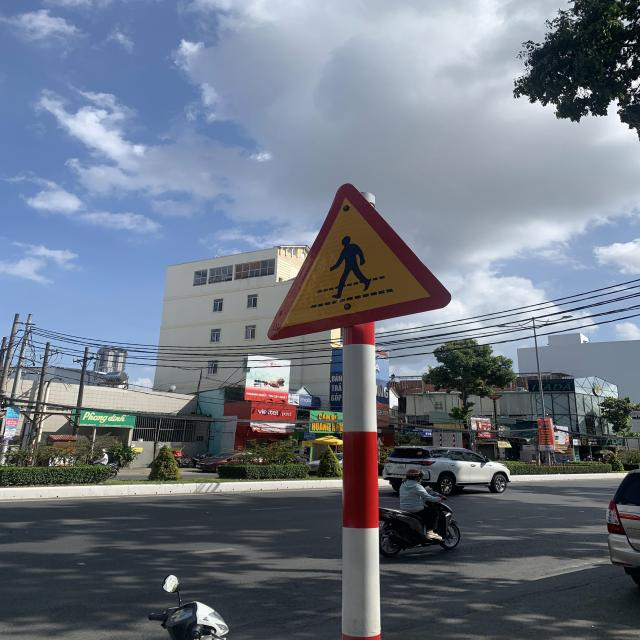Duong_Nguoi_Di_Bo_Sang_Ngang: (264, 182, 452, 338)
